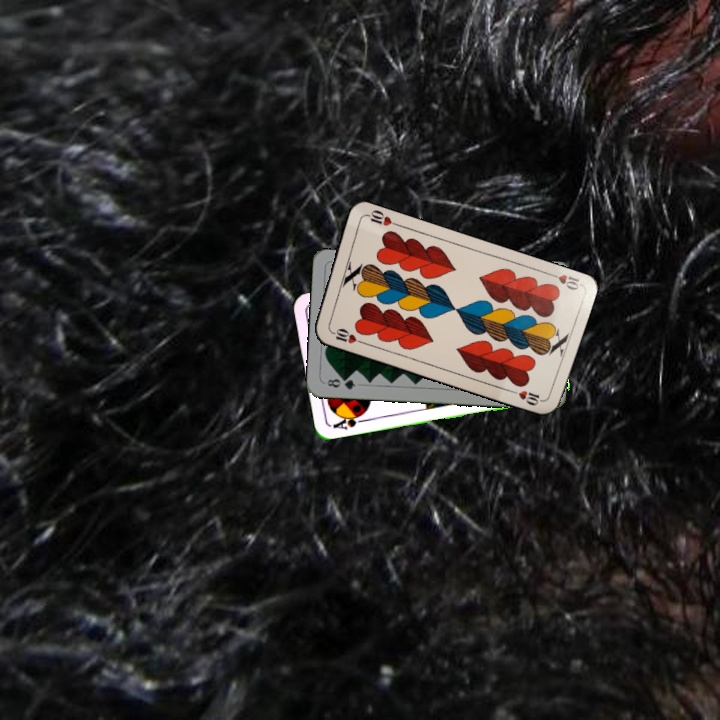G8: (323, 374, 358, 392)
H10: (543, 268, 583, 293), (326, 324, 365, 346)
SA: (329, 409, 369, 432)
